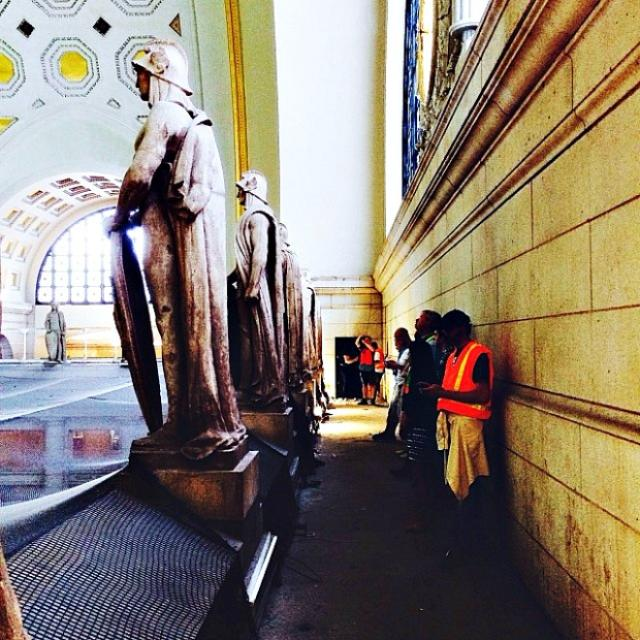body: (104, 52, 249, 450), (413, 308, 496, 562), (249, 168, 330, 411), (370, 334, 411, 442), (412, 309, 448, 380), (390, 326, 416, 421), (40, 293, 69, 375), (354, 332, 378, 408), (337, 338, 359, 402), (407, 339, 438, 383), (368, 340, 386, 406)
